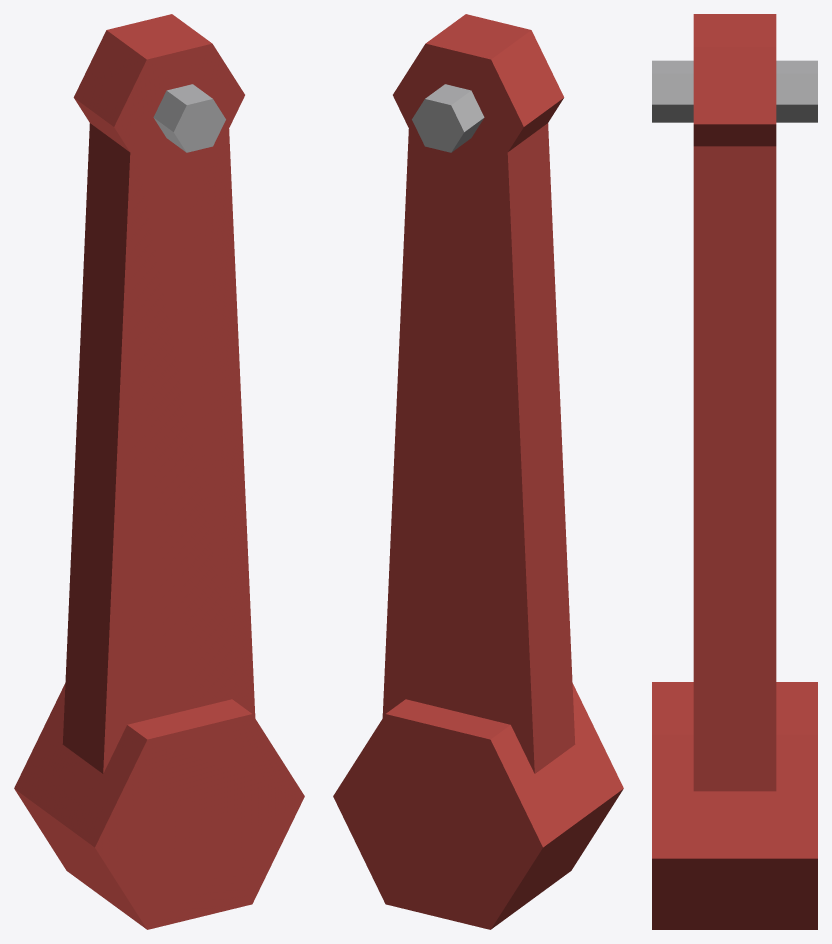
Rendered from drum_arm_lod2.glb.
3 views of the same model, side by side, from view 1: azimuth 30°, elevation 25°; view 2: azimuth 150°, elevation 25°; view 3: azimuth 270°, elevation 25° (orthographic). The views are drawn at different scales.
Parts seen in each view (by area): view 1: drum_arm_lod2; view 2: drum_arm_lod2; view 3: drum_arm_lod2.
Part boxes in pixels (box(x1,y1,x2,y2)): drum_arm_lod2: box(14, 14, 304, 929); drum_arm_lod2: box(333, 14, 623, 929); drum_arm_lod2: box(652, 14, 817, 929).
Bounding box in the file's own units: 0.024 × 0.0929 × 0.016.
